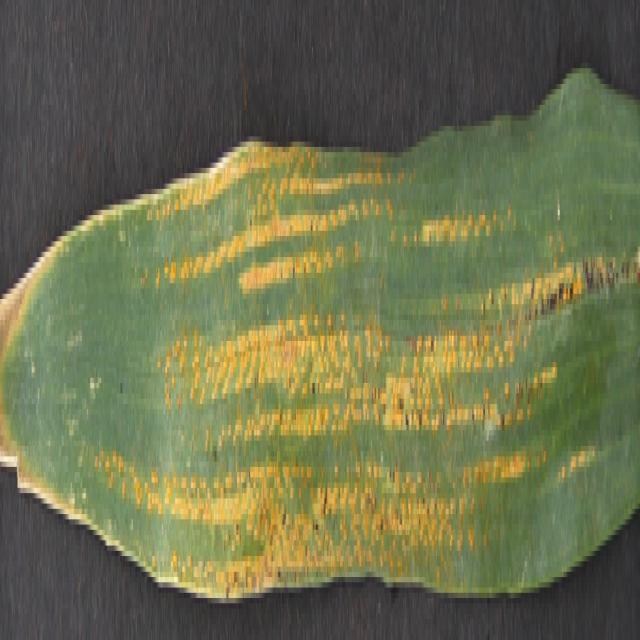leaf rust: (100, 74, 640, 604)
